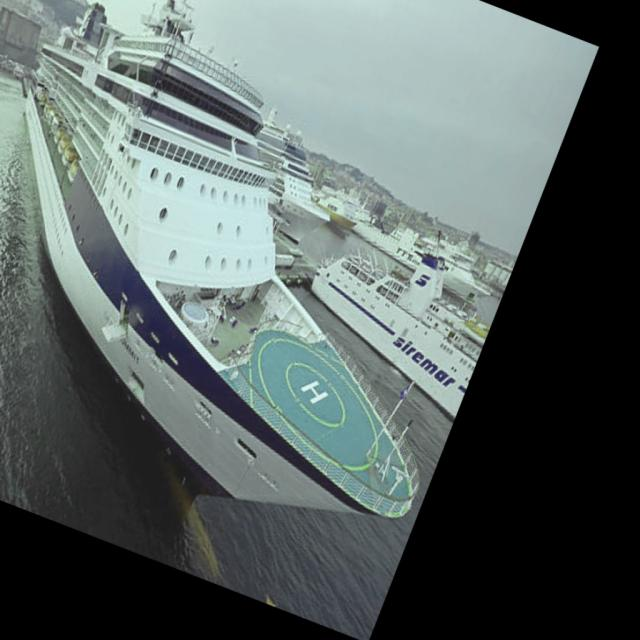helipad: (281, 358, 348, 429)
